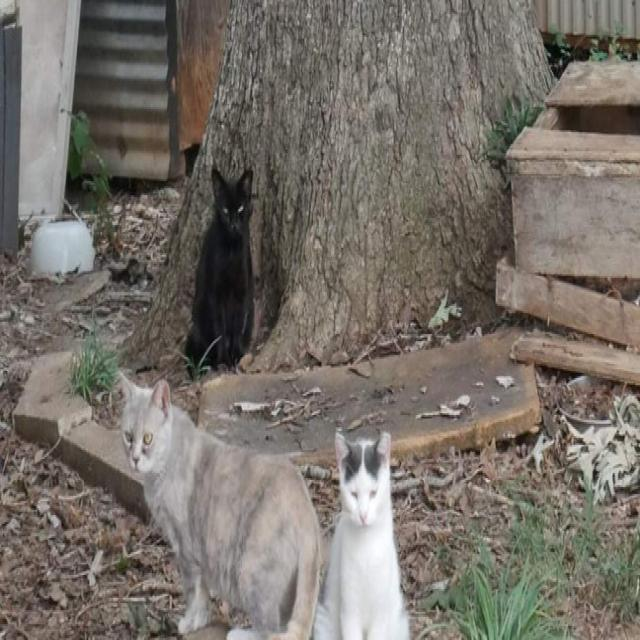cat: (120, 374, 320, 638), (314, 432, 409, 638), (186, 169, 254, 364)
